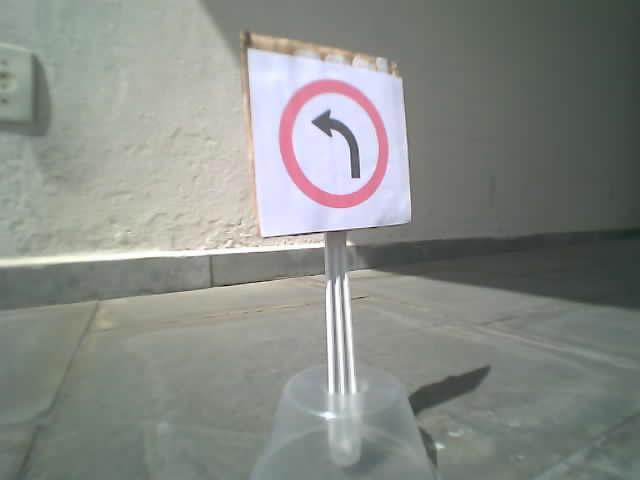R-25a_esquerda: (277, 78, 388, 209)
